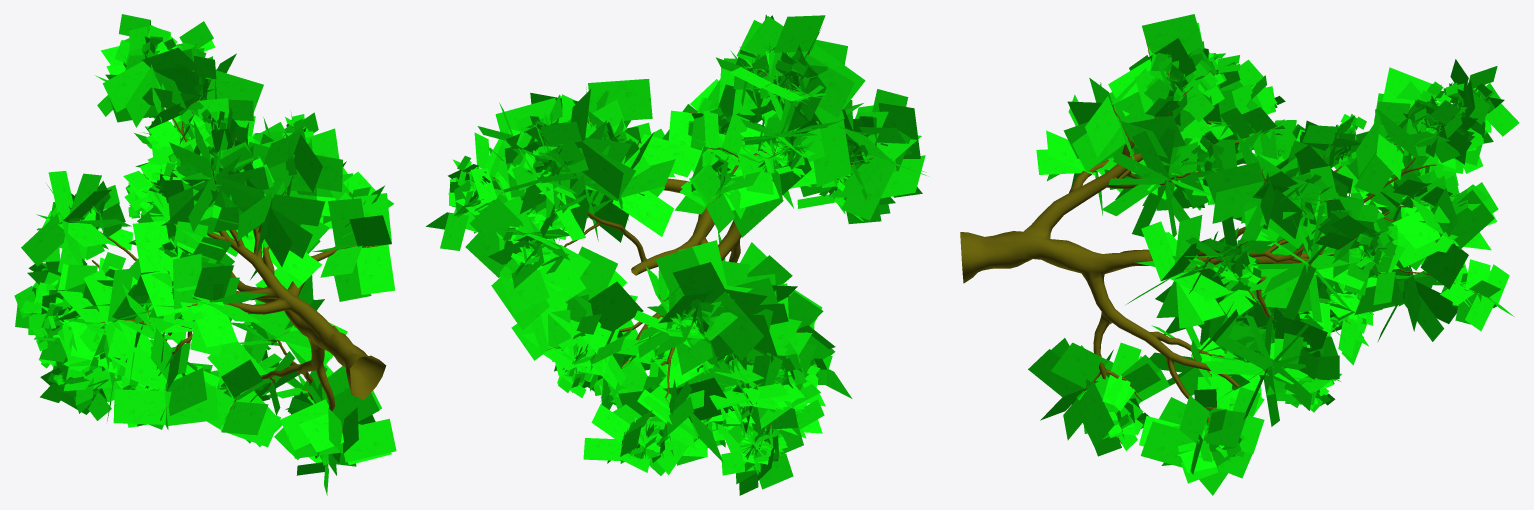
Rendered from Tree.fbx.
3 views of the same model, side by side, from view 1: azimuth 30°, elevation 25°; view 2: azimuth 150°, elevation 25°; view 3: azimuth 270°, elevation 25° (orthographic). The views are drawn at different scales.
Visible parts, largest first — view 1: leaf, Material; view 2: leaf, Material; view 3: leaf, Material.
Boxes of the visible parts, bbox=[...] form: leaf: bbox=[14, 14, 396, 495]; Material: bbox=[29, 28, 386, 466]; leaf: bbox=[426, 14, 928, 495]; Material: bbox=[455, 32, 904, 475]; leaf: bbox=[1028, 14, 1519, 495]; Material: bbox=[960, 41, 1497, 467].
Size of the model in its own units: 854 by 982 by 1208.
